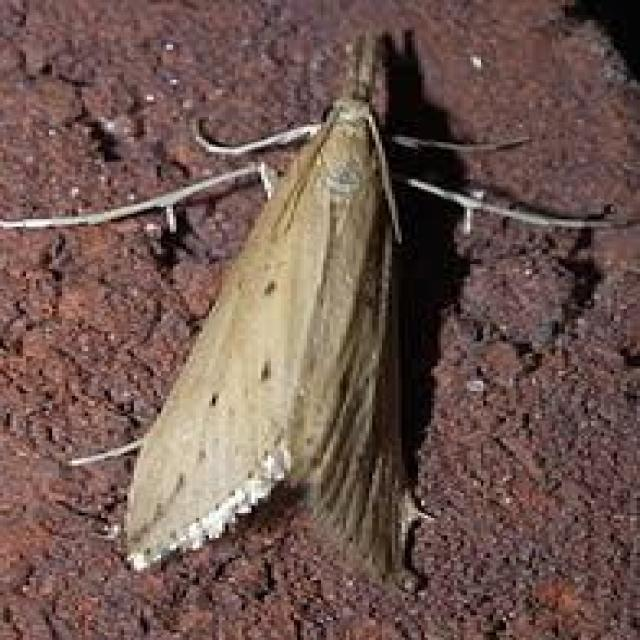yellow-stem-borer: (83, 55, 506, 562)
